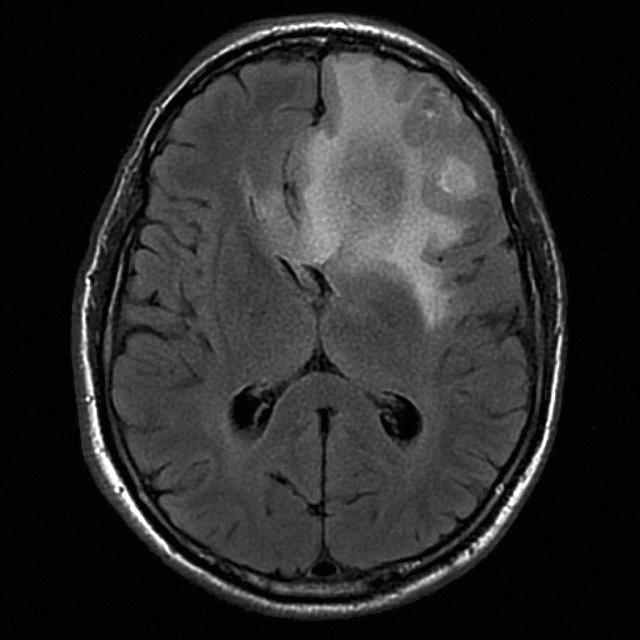Tumor-Cell: (272, 52, 503, 298)
